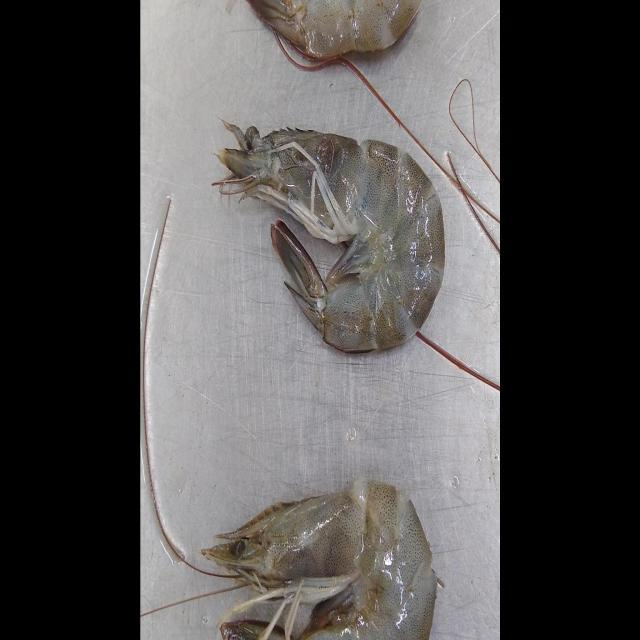shrimp: (219, 124, 444, 351), (220, 480, 439, 640), (246, 0, 421, 58)
